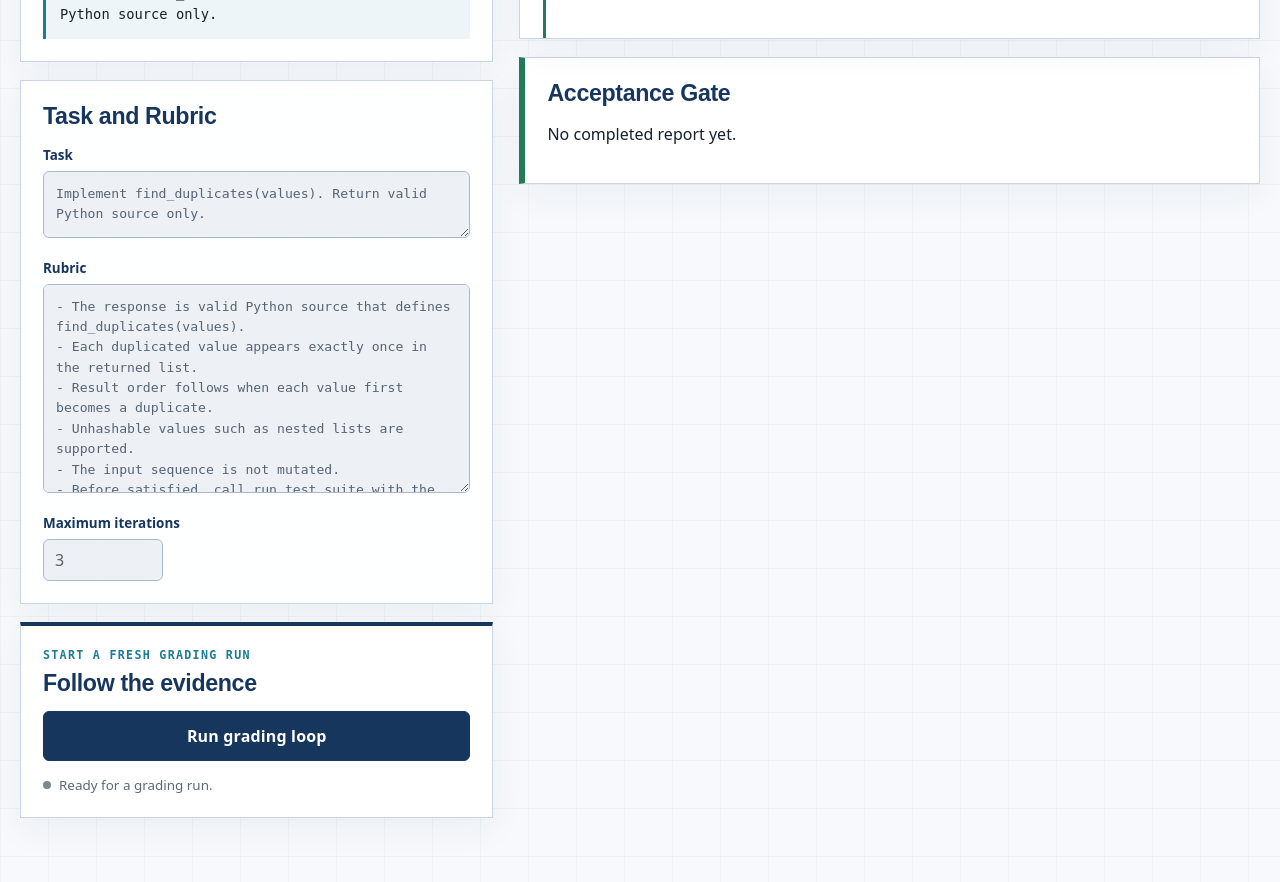
it: Rubric Lab workbench › disables mode changes and another Run while a submission is active
(page scrolled)
Click the button "Run grading loop" at (257, 736), box [43,711,470,761]
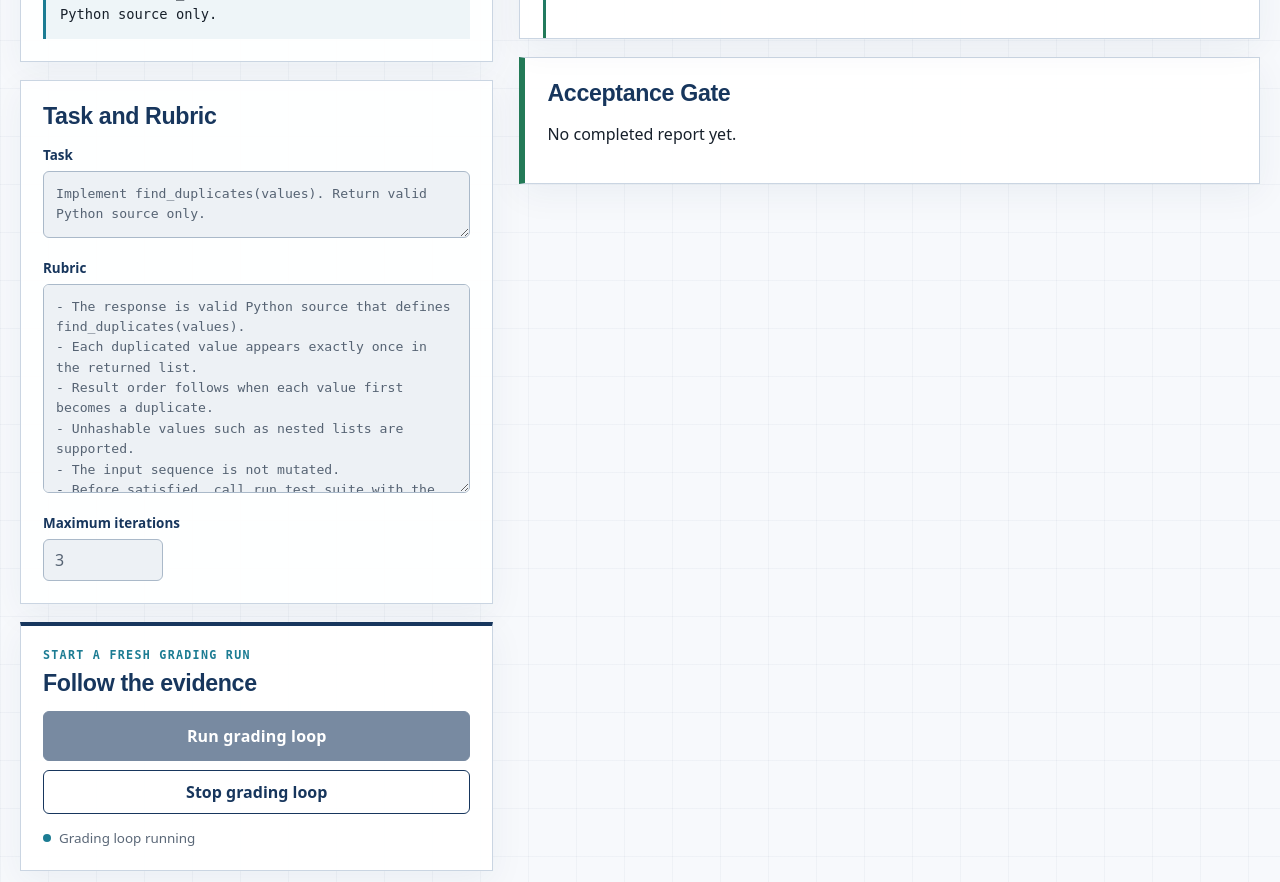
expect the button "Run grading loop" is disabled: met, box [43,711,470,761]
expect the text "Grading loop running" is shown: met, box [43,829,195,847]
